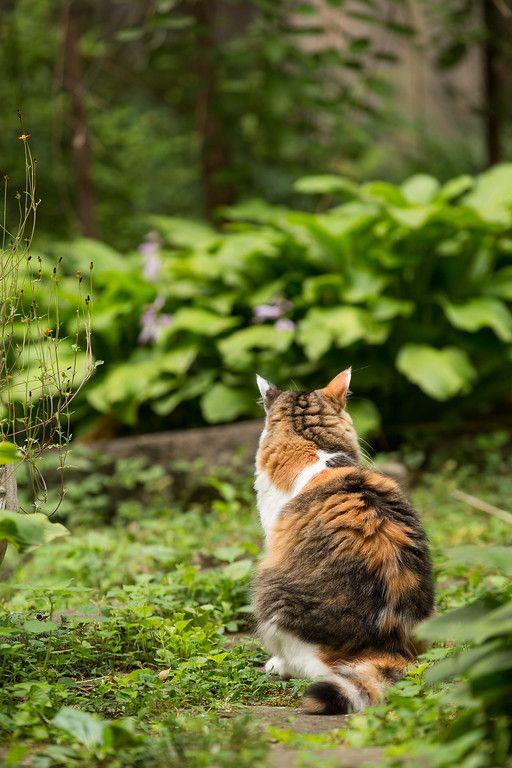kedo: (251, 367, 429, 710)
